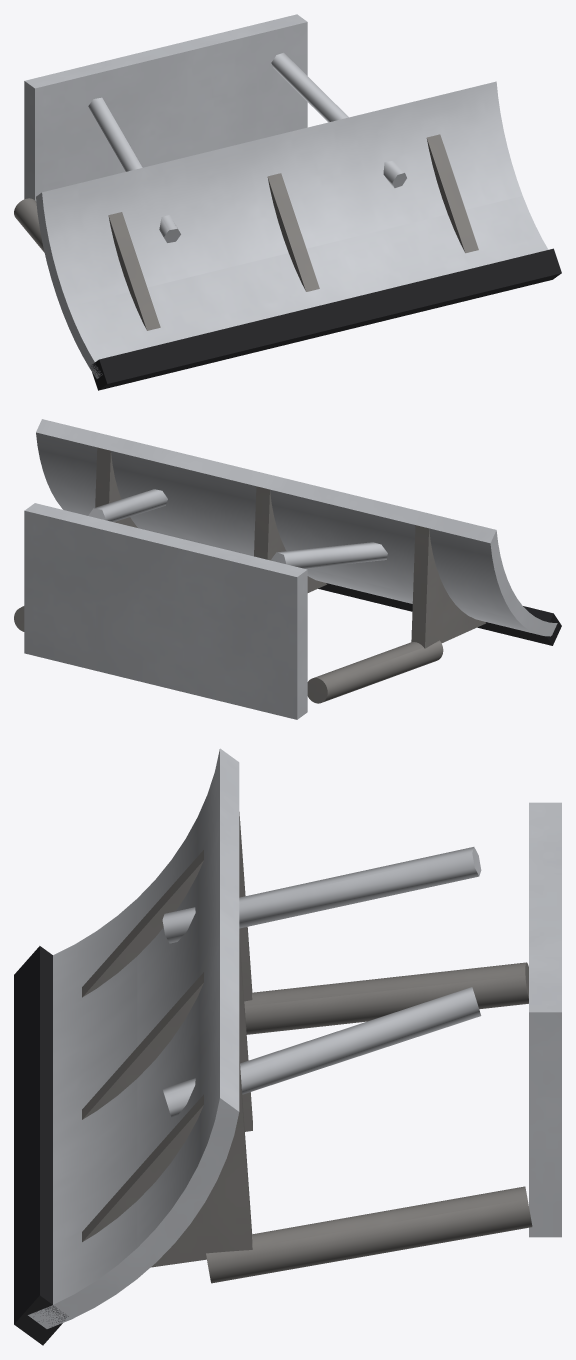
File: rover32_dozer_scoop_s_scoop.glb
3 views of the same model, one above another, from view 1: azimuth 30°, elevation 25°; view 2: azimuth 150°, elevation 25°; view 3: azimuth 270°, elevation 25° (orthographic). The views are drawn at different scales.
Parts seen in each view (by area): view 1: blade, mount_plate, blade_edge, blade_ribs, arm_rams, arm_push; view 2: mount_plate, blade, blade_ribs, arm_push, arm_rams, blade_edge; view 3: blade, arm_push, blade_ribs, arm_rams, blade_edge, mount_plate.
Boxes of the visible parts, <box> form: blade: <box>36,81,548,378</box>; mount_plate: <box>24,14,307,201</box>; blade_edge: <box>90,248,561,390</box>; blade_ribs: <box>108,134,478,330</box>; arm_rams: <box>88,52,406,242</box>; arm_push: <box>14,198,44,252</box>; mount_plate: <box>24,503,307,719</box>; blade: <box>36,419,557,636</box>; blade_ribs: <box>95,447,485,648</box>; arm_push: <box>14,606,443,703</box>; arm_rams: <box>88,489,387,568</box>; blade_edge: <box>318,583,561,645</box>; blade: <box>28,748,239,1328</box>; arm_push: <box>206,962,532,1283</box>; blade_ribs: <box>82,812,252,1267</box>; arm_rams: <box>162,847,481,1117</box>; blade_edge: <box>14,946,68,1345</box>; mount_plate: <box>529,802,561,1237</box>.
Bounding box in the file's own units: 1 × 0.3514 × 0.6624.
Materials: 3 (2 with a texture image).
